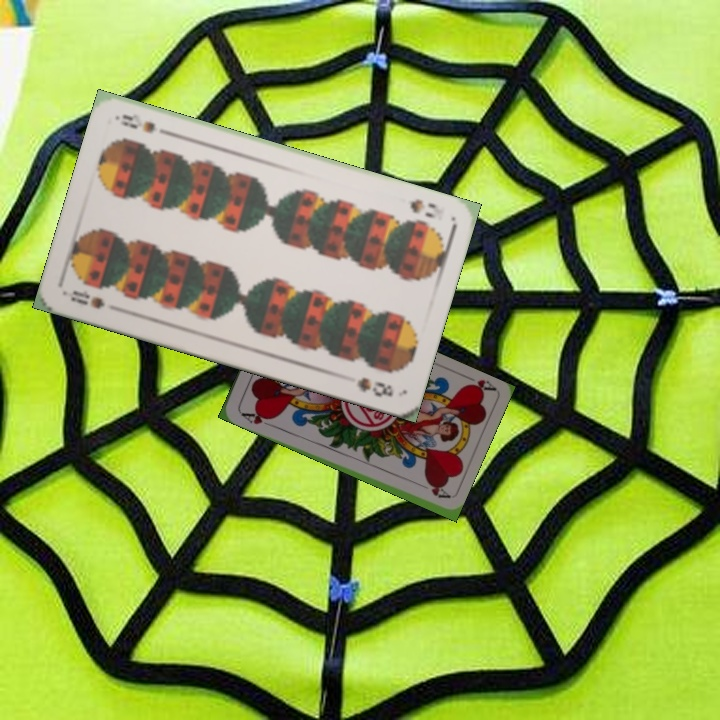HA: (458, 370, 497, 397), (236, 407, 275, 429)
S8: (67, 286, 108, 311), (406, 195, 440, 221)
